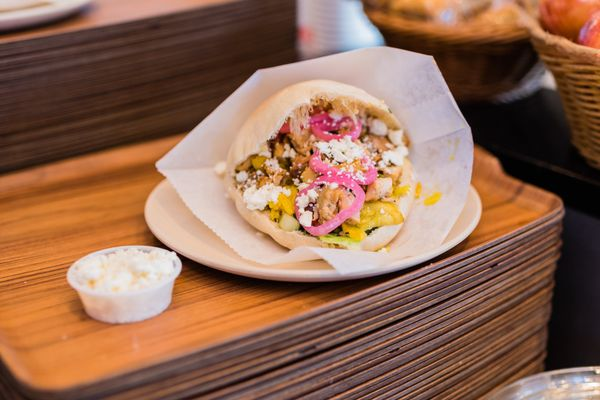sushi: (67, 244, 182, 324)
